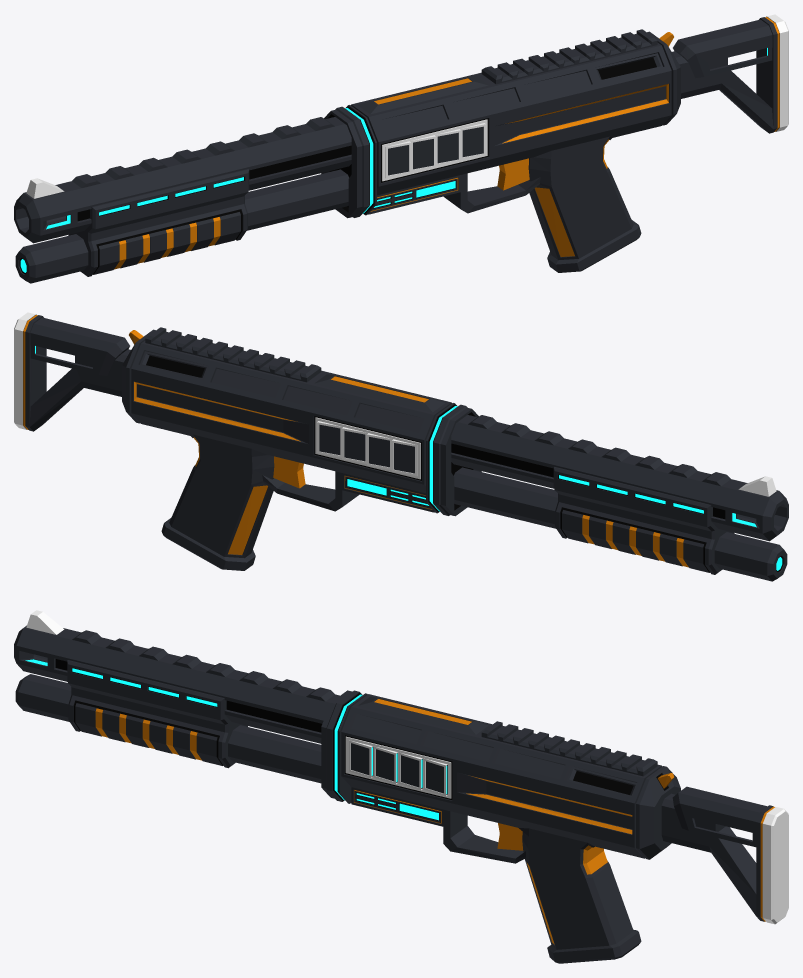
File: SM_Shotgun.fbx
3 views of the same model, one above another, from view 1: azimuth 30°, elevation 25°; view 2: azimuth 150°, elevation 25°; view 3: azimuth 330°, elevation 25° (orthographic).
Parts seen in each view (by area): view 1: SM_Shotgun, SM_Shotgun_Pump; view 2: SM_Shotgun, SM_Shotgun_Pump; view 3: SM_Shotgun, SM_Shotgun_Pump.
Boxes of the visible parts, <box> form: SM_Shotgun: <box>14,14,788,283</box>; SM_Shotgun_Pump: <box>68,169,249,276</box>; SM_Shotgun: <box>14,312,788,581</box>; SM_Shotgun_Pump: <box>553,467,734,574</box>; SM_Shotgun: <box>14,610,788,963</box>; SM_Shotgun_Pump: <box>67,660,247,768</box>.
Size of the model in its own units: 105 by 28.6 by 9.58.
